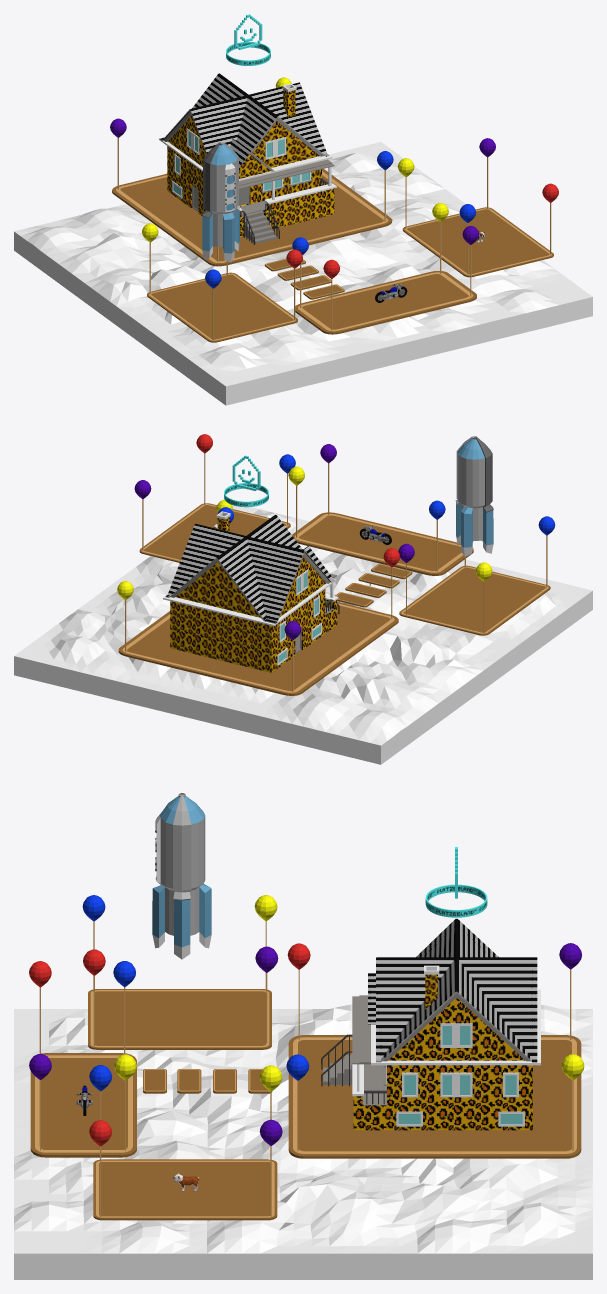
The picture shows the model from 3 angles, top to bottom: view 1: azimuth 30°, elevation 25°; view 2: azimuth 150°, elevation 25°; view 3: azimuth 270°, elevation 25°; orthographic projection. The views are drawn at different scales.
Parts seen in each view (by area): view 1: Cube.013, Cube.637, OBJRANDOM_ROCKETSHIP, TYPE_PREMIUM; view 2: Cube.013, Cube.637, OBJRANDOM_ROCKETSHIP, TYPE_PREMIUM; view 3: Cube.013, Cube.637, OBJRANDOM_ROCKETSHIP, TYPE_PREMIUM.
Part boxes in pixels (<box>): Cube.013: <box>14,77,592,405</box>; Cube.637: <box>159,73,336,244</box>; OBJRANDOM_ROCKETSHIP: <box>202,142,239,262</box>; TYPE_PREMIUM: <box>226,14,270,65</box>; Cube.013: <box>14,434,592,764</box>; Cube.637: <box>163,511,339,672</box>; OBJRANDOM_ROCKETSHIP: <box>455,436,493,556</box>; TYPE_PREMIUM: <box>224,455,268,507</box>; Cube.013: <box>14,895,592,1279</box>; Cube.637: <box>321,918,540,1130</box>; OBJRANDOM_ROCKETSHIP: <box>152,793,211,959</box>; TYPE_PREMIUM: <box>425,847,487,917</box>.
Size of the model in its own units: 4000 by 2595 by 4000.
37 materials, 3 textured.
